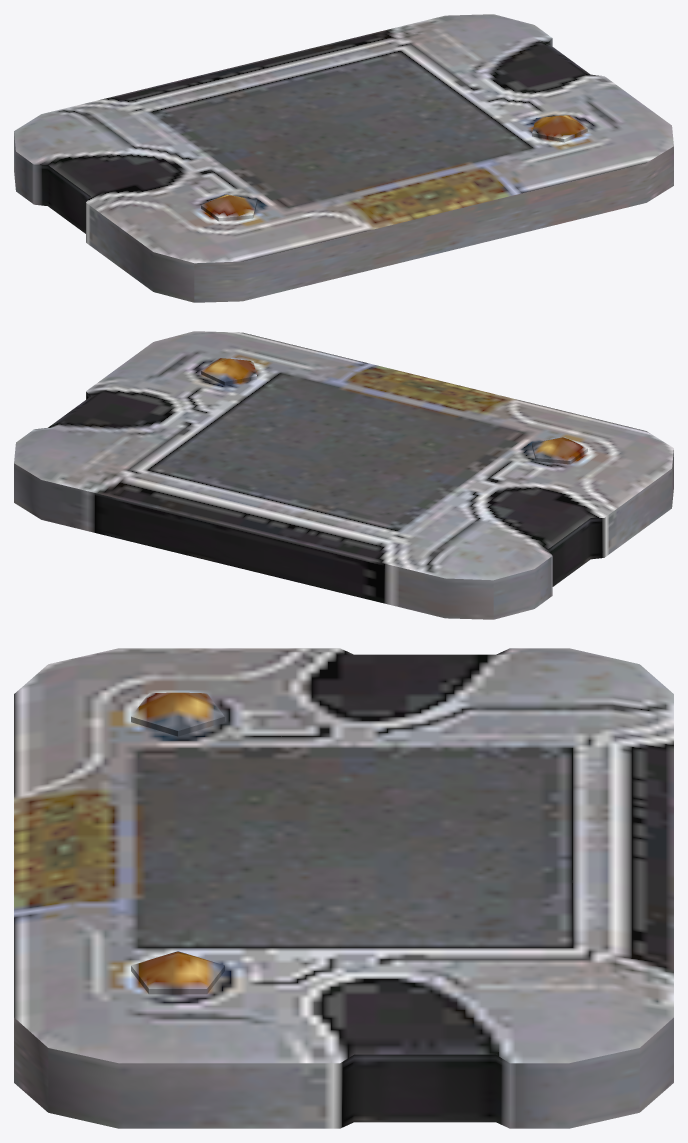
Rendered from eqp_tool_handheld_viewscreen_s2_l0.fbx.
3 views of the same model, one above another, from view 1: azimuth 30°, elevation 25°; view 2: azimuth 150°, elevation 25°; view 3: azimuth 270°, elevation 25° (orthographic). The views are drawn at different scales.
Visible parts, largest first — view 1: mesh_node; view 2: mesh_node; view 3: mesh_node.
Part boxes in pixels (<box>): mesh_node: <box>14,14,673,302</box>; mesh_node: <box>14,331,673,619</box>; mesh_node: <box>14,648,673,1128</box>.
Bounding box in the file's own units: 0.2847 × 0.0342 × 0.1913.
1 material, 1 textured.
